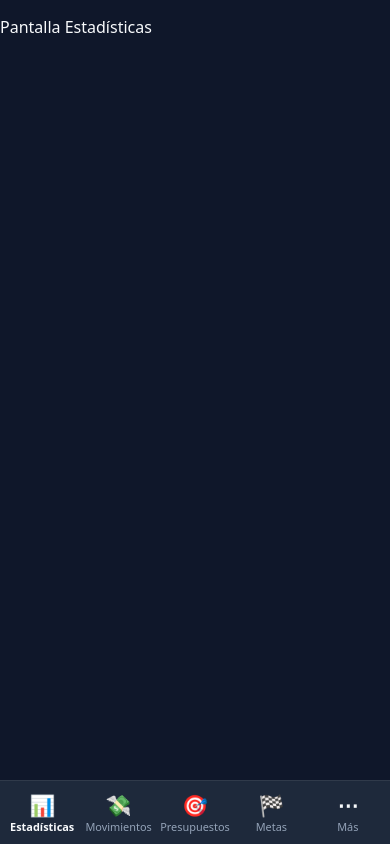
Test: MobileNav › elegir una sección cierra el panel y navega
This screenshot has width=390, height=844.
Click the button "⋯ Más": (348, 814) top-left (310, 785), bottom-right (386, 843)
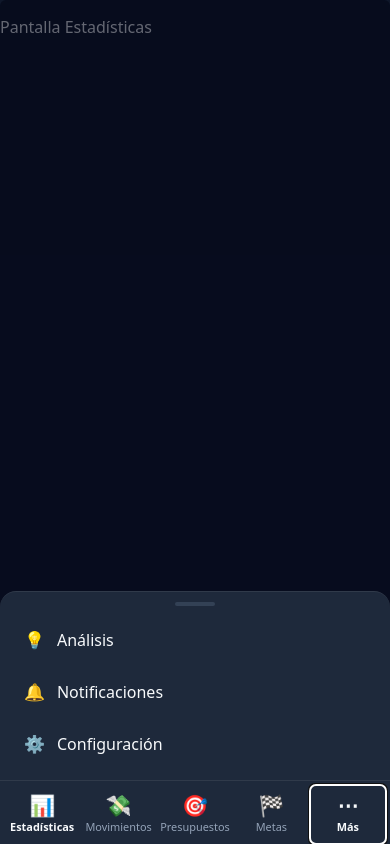
Click the link "⚙️ Configuración": (93, 743) top-left (24, 732), bottom-right (163, 755)
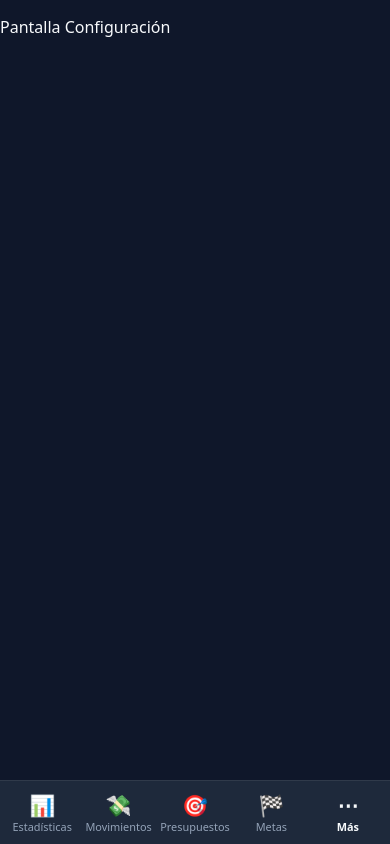
Now the text "Pantalla Configuración" is shown, box top-left (0, 16), bottom-right (170, 38)
